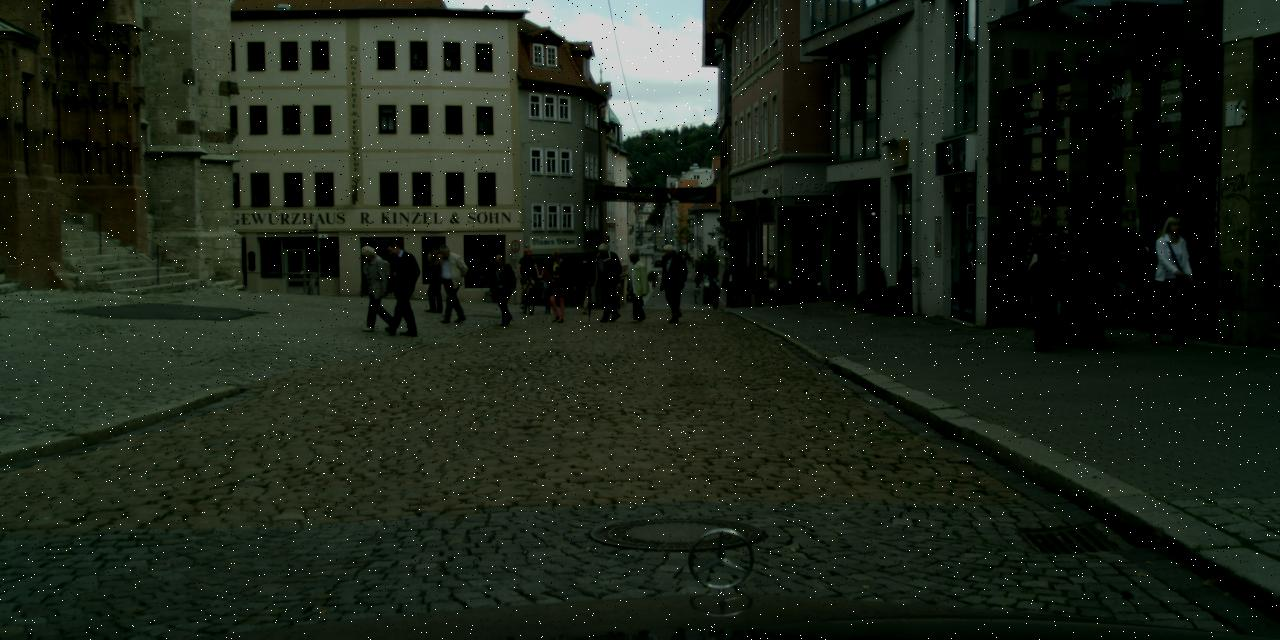ped: (1061, 208, 1118, 348), (1018, 212, 1074, 352), (1144, 215, 1196, 344), (376, 242, 414, 335), (356, 245, 390, 329), (654, 242, 686, 322), (590, 242, 622, 322), (432, 244, 464, 322), (542, 249, 572, 321), (488, 254, 517, 325), (622, 252, 650, 322), (420, 245, 447, 311), (572, 254, 596, 314), (516, 249, 539, 305), (721, 262, 738, 306), (736, 263, 752, 305), (539, 262, 555, 302), (610, 279, 622, 308), (709, 281, 720, 309), (692, 284, 699, 302), (694, 273, 700, 286)
